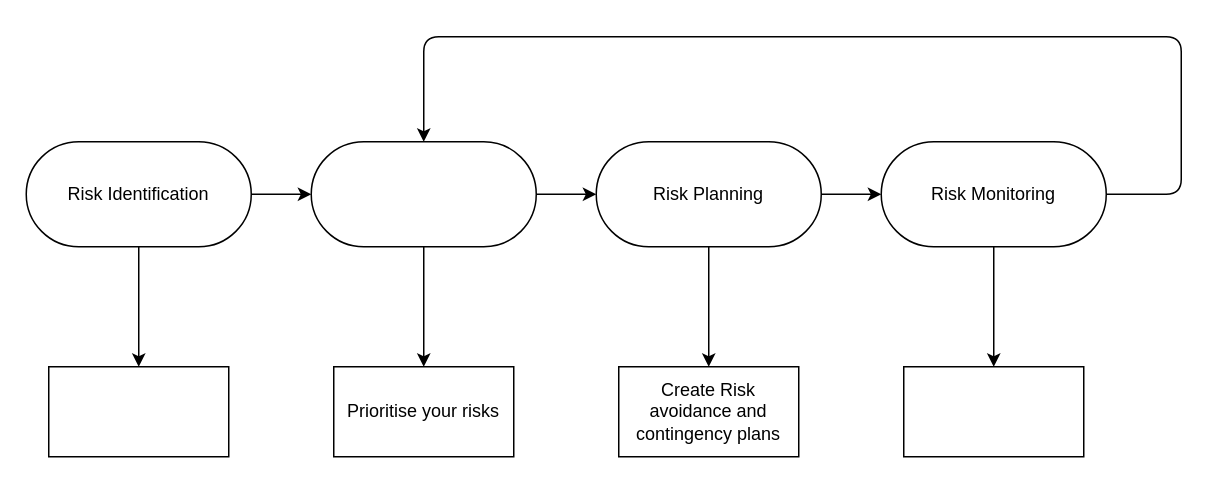
Image size: 1220x483. Some labels were removed from this diagram. The shapes that lost their labels are listed below. From the top down, each one's centre as x and y in pixels, then its label:
the point at 423,193: Risk Analysis
the point at 138,411: Create a list of possible risks
the point at 993,411: Risk assessment (Assess project for any risks using risk Indicators)
